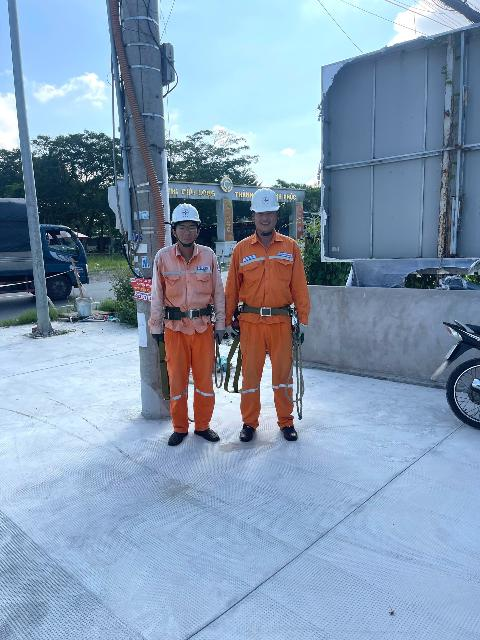gloves: (143, 329, 164, 348), (291, 324, 307, 348), (214, 326, 228, 348), (229, 321, 243, 342)
harness: (218, 295, 298, 324), (153, 295, 222, 328)
helmet: (249, 182, 284, 214), (168, 204, 208, 225)
shoes: (230, 411, 267, 451), (156, 418, 199, 450), (192, 416, 229, 450), (276, 421, 308, 453)
